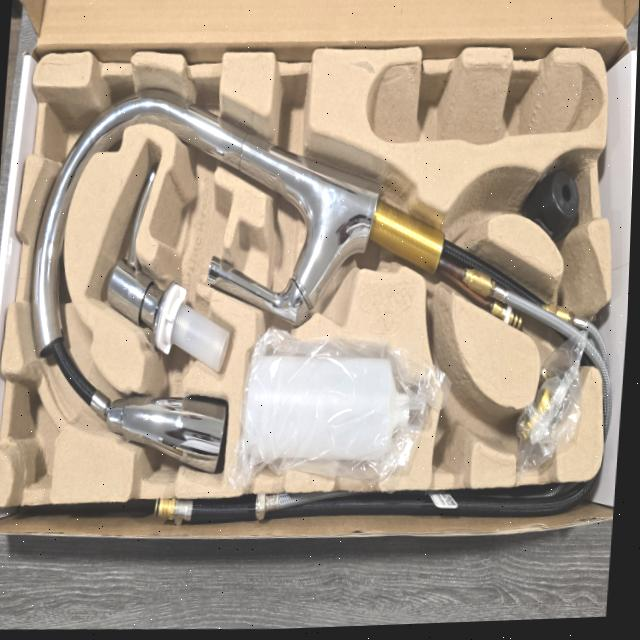1: (26, 83, 608, 472)
2: (105, 168, 229, 374)
3: (239, 352, 427, 466)
4m: (365, 64, 604, 143)
5: (522, 167, 578, 244)
6: (514, 324, 587, 482)
7m: (426, 332, 497, 474)
